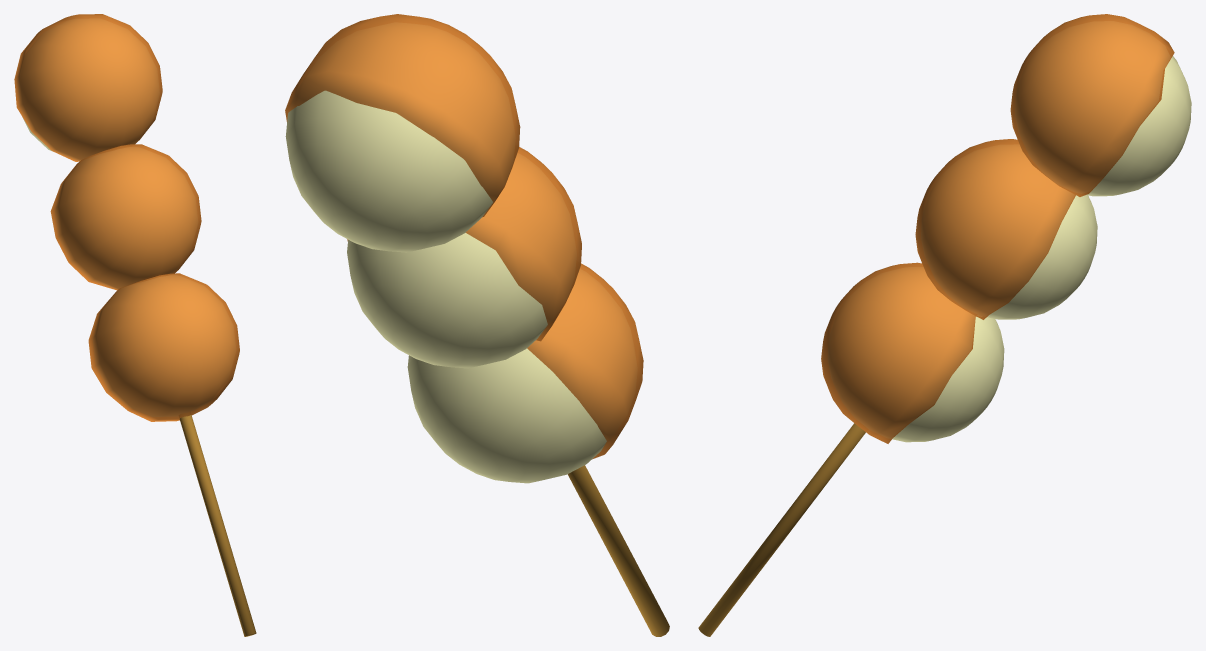
The model's file is TakoyakiSkewer.fbx.
3 views of the same model, side by side, from view 1: azimuth 30°, elevation 25°; view 2: azimuth 150°, elevation 25°; view 3: azimuth 270°, elevation 25° (orthographic). The views are drawn at different scales.
Visible parts, largest first — view 1: sm_dango_glazed; view 2: sm_dango_glazed; view 3: sm_dango_glazed.
Boxes of the visible parts, left/top/right/bottom form: sm_dango_glazed: left=14, top=14, right=256, bottom=636; sm_dango_glazed: left=285, top=14, right=669, bottom=636; sm_dango_glazed: left=698, top=14, right=1191, bottom=636.
Size of the model in its own units: 22.61 by 85 by 61.93.
